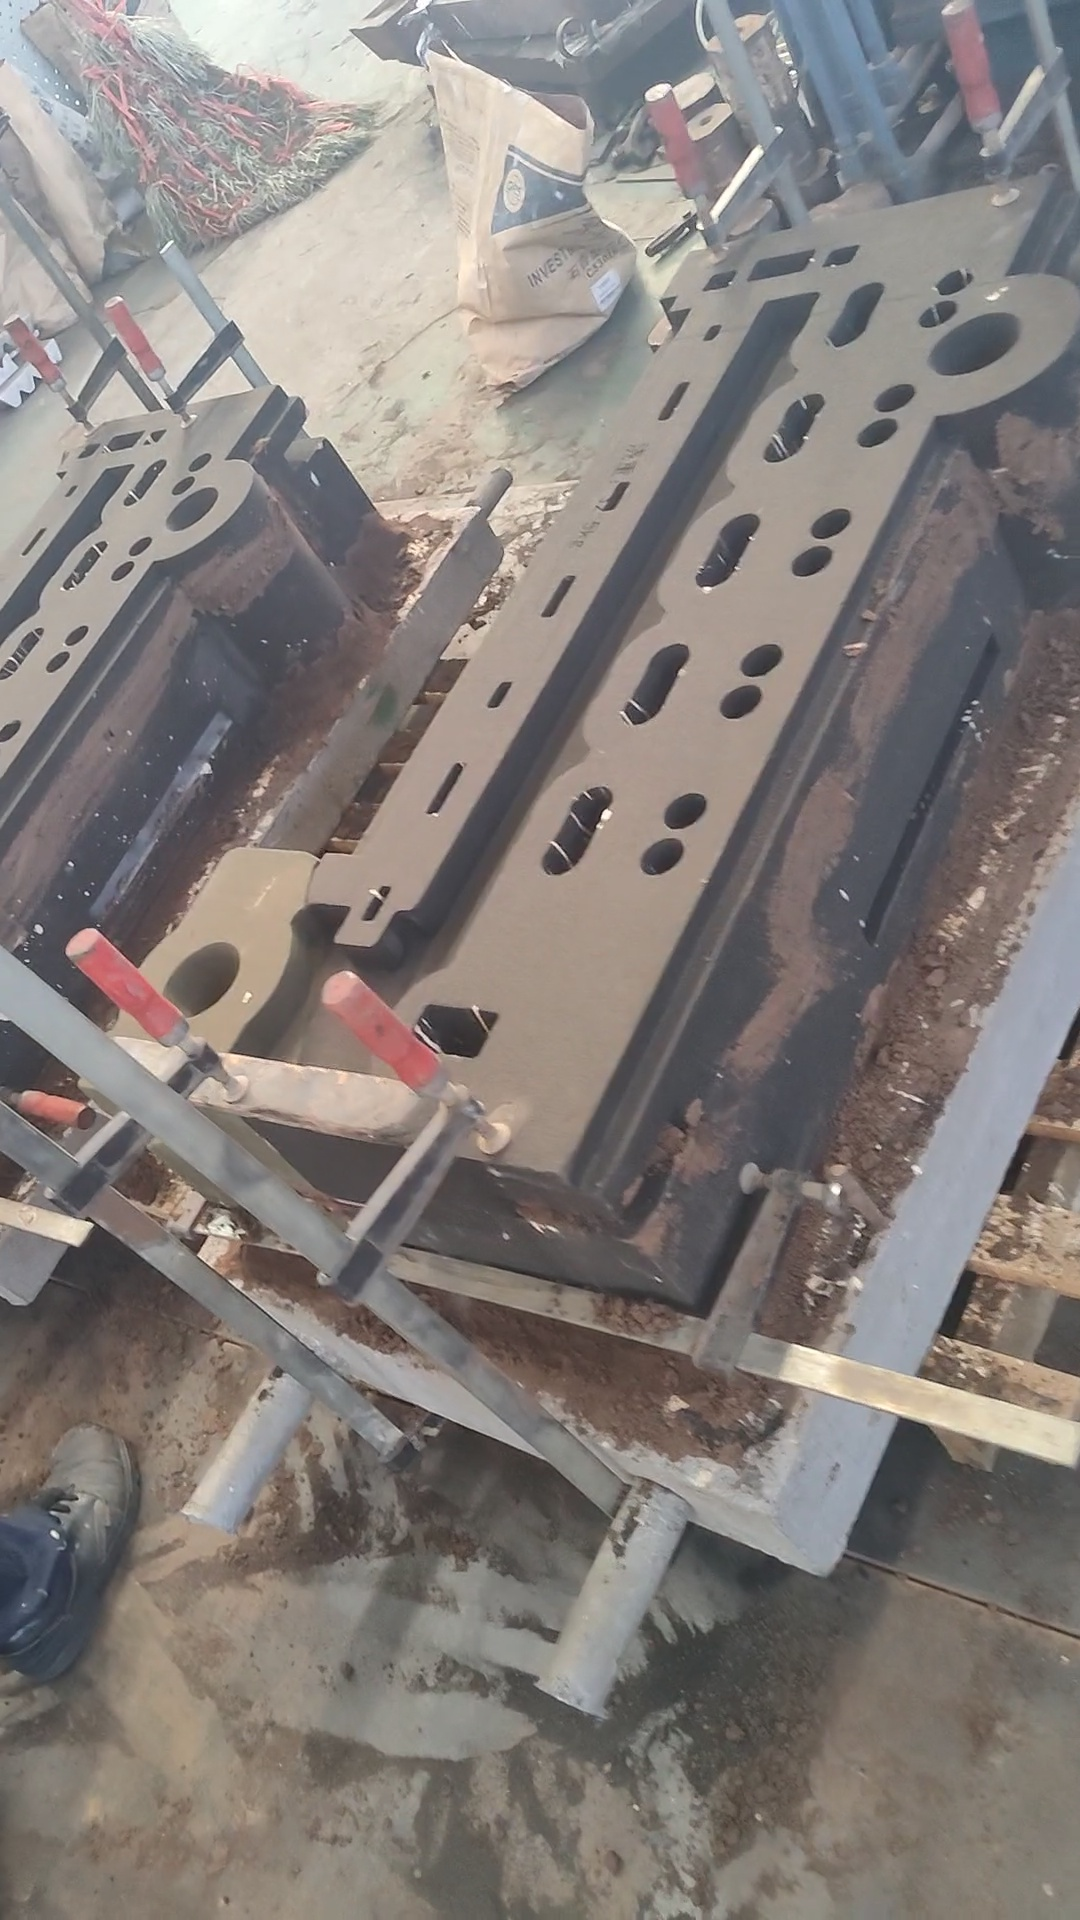pouring hole: (161, 942, 240, 1021), (928, 313, 1022, 376), (164, 487, 218, 531)
